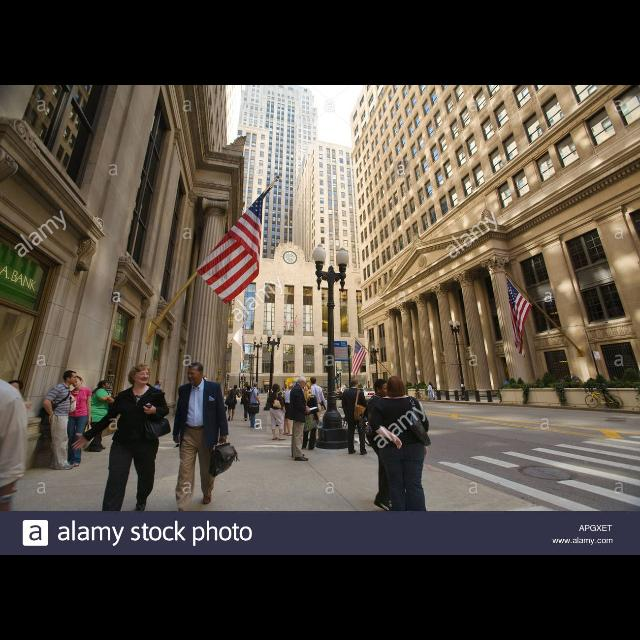head: (130, 365, 152, 385), (188, 362, 205, 386), (386, 376, 404, 396), (375, 379, 389, 398), (62, 370, 78, 386), (72, 376, 84, 389), (298, 378, 308, 390), (99, 382, 111, 391), (350, 380, 360, 390), (304, 384, 312, 394), (273, 384, 281, 392), (157, 381, 163, 387), (254, 383, 260, 389), (288, 385, 294, 391), (311, 378, 317, 384), (247, 386, 251, 392), (571, 373, 577, 377), (276, 388, 282, 392), (234, 386, 238, 390), (426, 384, 429, 388)
person: (71, 362, 173, 544), (170, 361, 242, 529), (370, 374, 432, 526), (360, 378, 406, 514), (38, 369, 78, 473), (62, 374, 94, 470), (286, 376, 320, 464), (340, 378, 370, 458), (84, 380, 116, 454), (299, 381, 323, 451), (304, 376, 328, 442), (268, 382, 288, 442), (220, 383, 242, 422), (282, 383, 296, 439), (271, 384, 287, 428), (248, 381, 262, 429), (240, 385, 254, 423), (152, 379, 166, 415), (568, 372, 582, 402), (424, 383, 436, 401)
